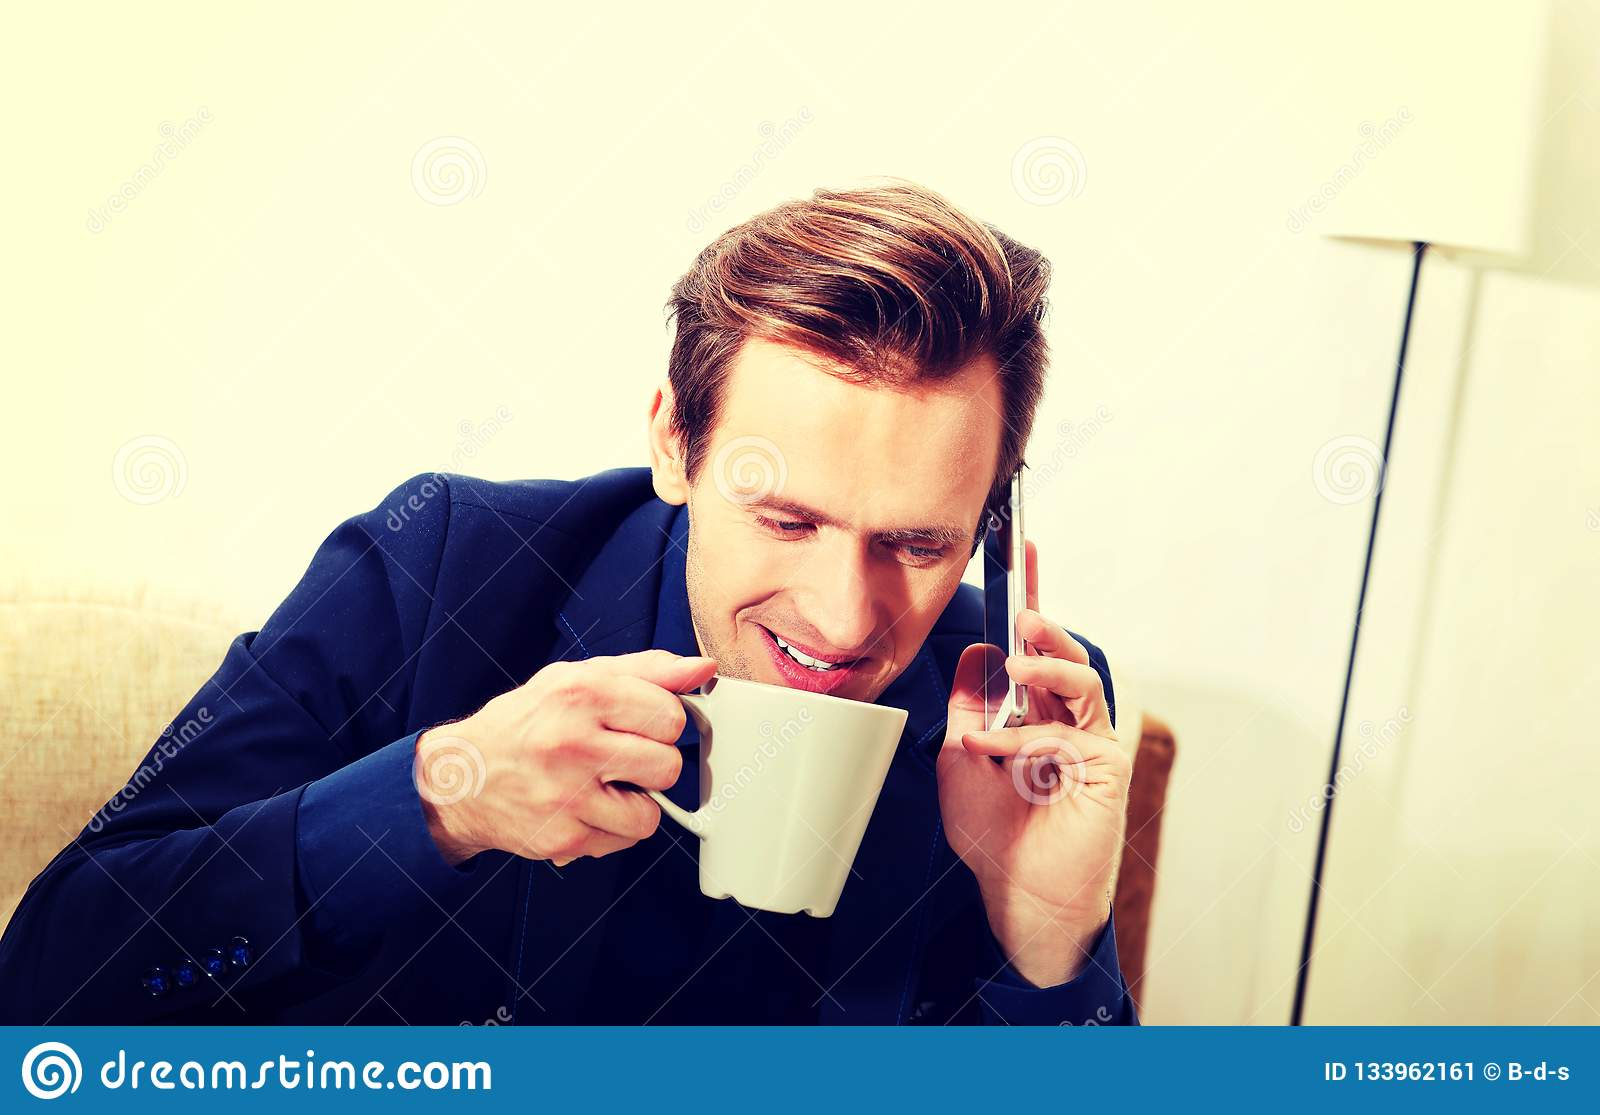phone: (969, 444, 1035, 773)
talk: (721, 451, 1123, 970)
